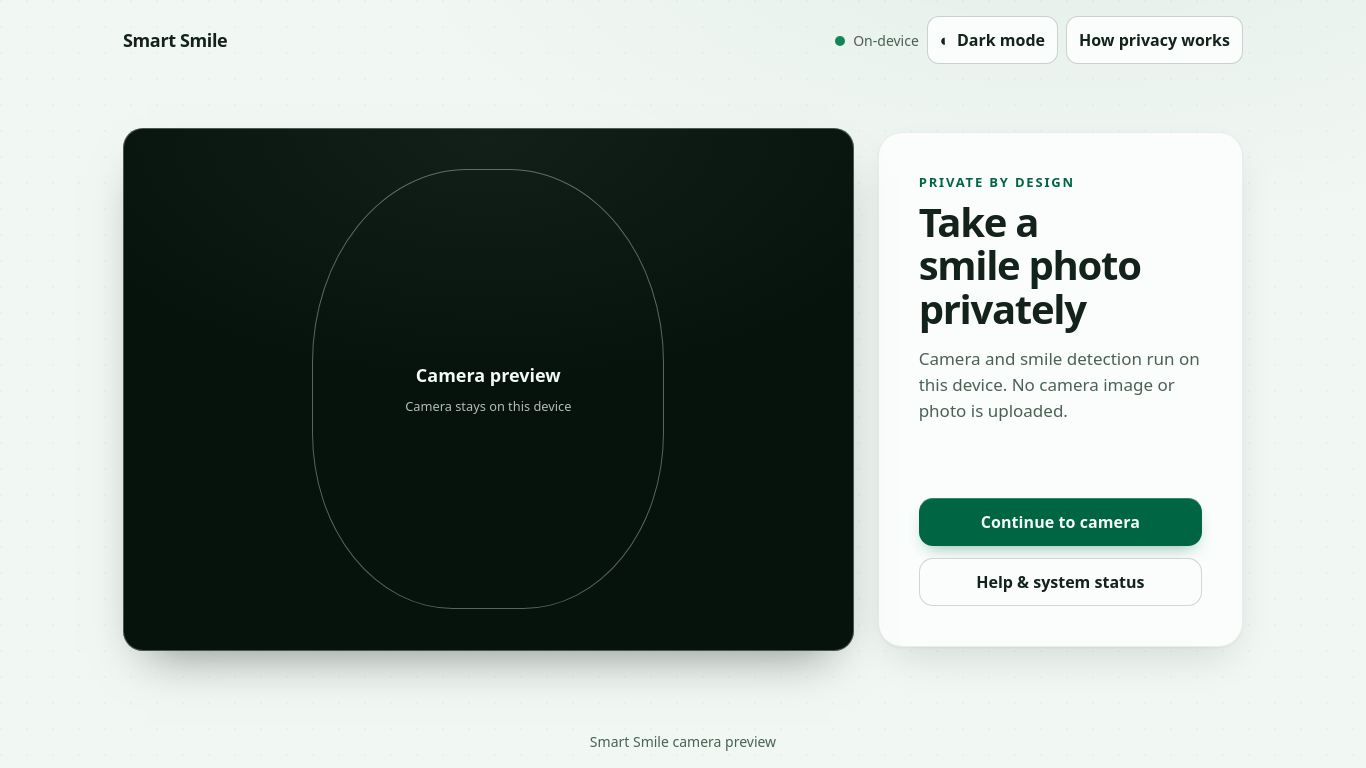
it: Smart Smile camera session › switches between light and dark mode and remembers the selection
Click the button with aria-label "Switch to dark mode".
click(992, 40)  # box [927,16,1058,64]
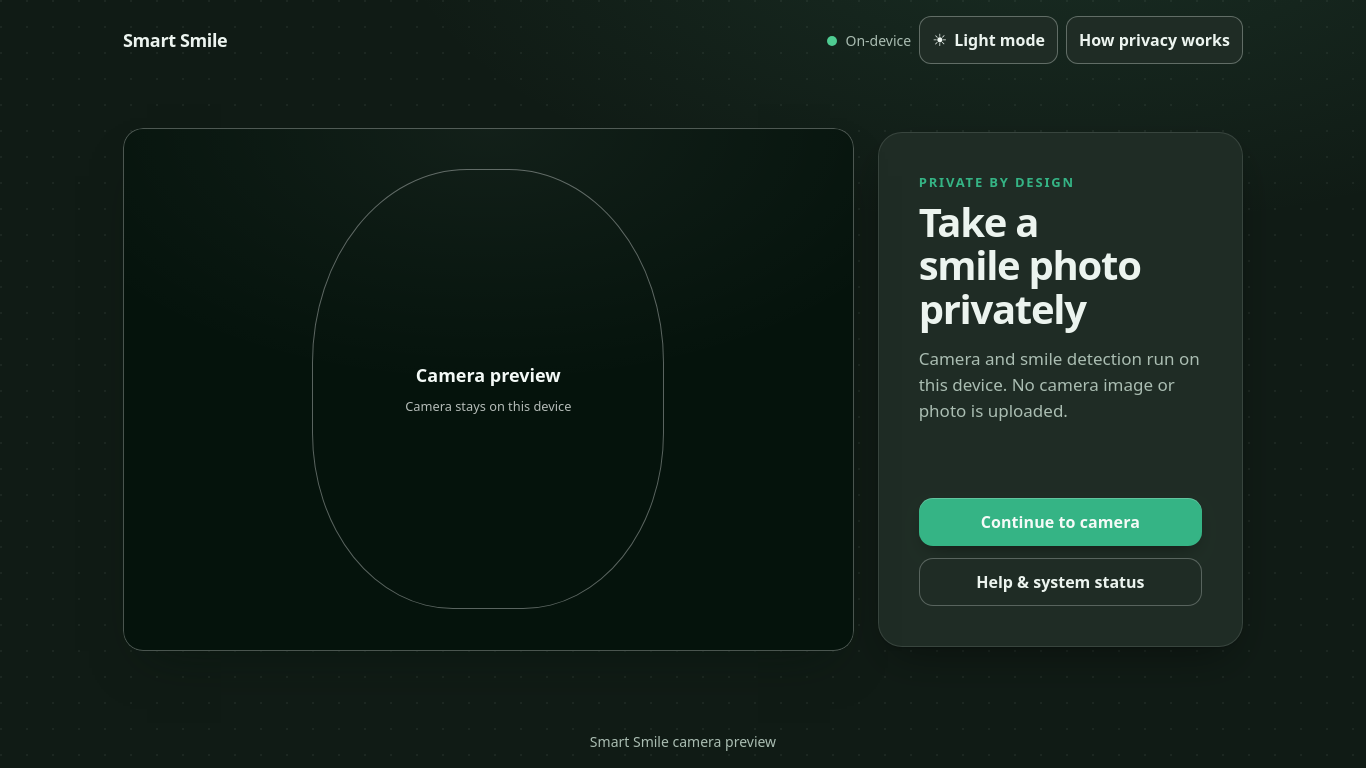
Check: the button with aria-label "Switch to light mode" is pressed, box [919,16,1058,64]
